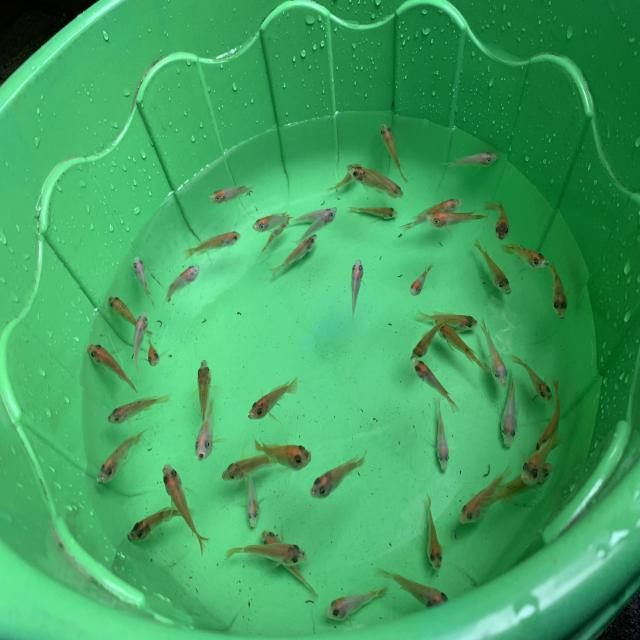nila: (259, 521, 326, 600), (161, 456, 208, 552), (373, 562, 454, 610), (478, 460, 558, 507), (93, 426, 153, 488), (123, 502, 207, 546), (431, 313, 489, 373), (221, 531, 313, 567), (307, 448, 373, 498), (458, 465, 511, 526), (471, 308, 510, 390), (86, 339, 140, 396), (244, 373, 302, 426), (103, 388, 177, 428), (409, 354, 460, 412), (407, 315, 462, 366), (320, 582, 390, 622), (264, 232, 321, 280), (470, 234, 514, 296), (508, 349, 556, 405), (249, 433, 316, 473), (399, 195, 461, 238), (218, 450, 287, 488), (520, 426, 562, 484), (181, 226, 246, 262), (534, 378, 565, 452), (354, 156, 406, 199), (107, 292, 155, 336), (344, 166, 400, 202), (161, 261, 202, 310), (421, 490, 446, 570), (192, 396, 219, 470), (293, 206, 339, 249), (377, 120, 409, 180), (414, 306, 481, 332), (432, 392, 452, 476), (202, 182, 266, 208), (543, 256, 569, 320), (479, 196, 515, 242), (132, 253, 160, 312), (500, 238, 550, 271), (406, 254, 441, 301), (421, 208, 489, 232), (501, 355, 518, 451), (258, 210, 294, 253), (130, 307, 151, 378), (242, 461, 263, 531), (438, 150, 501, 173), (282, 204, 332, 232), (325, 160, 364, 195), (196, 352, 213, 429), (348, 254, 366, 325), (248, 212, 296, 235), (345, 202, 399, 221), (143, 340, 164, 370)
